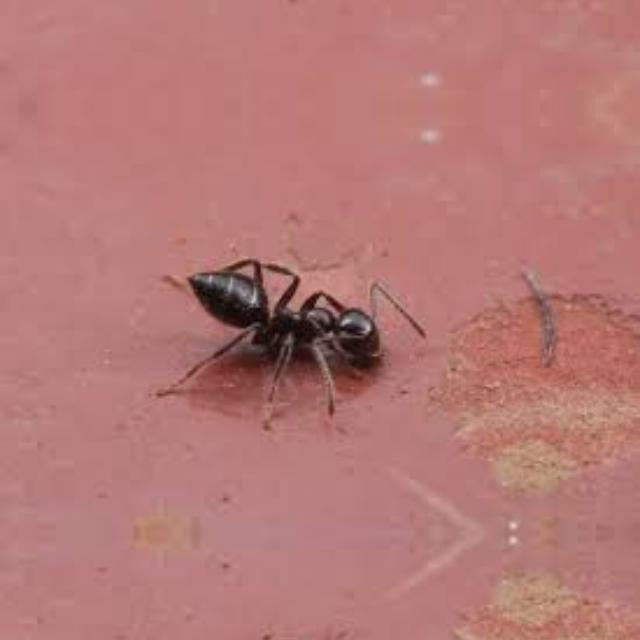Colobopsis: (150, 229, 428, 405)
